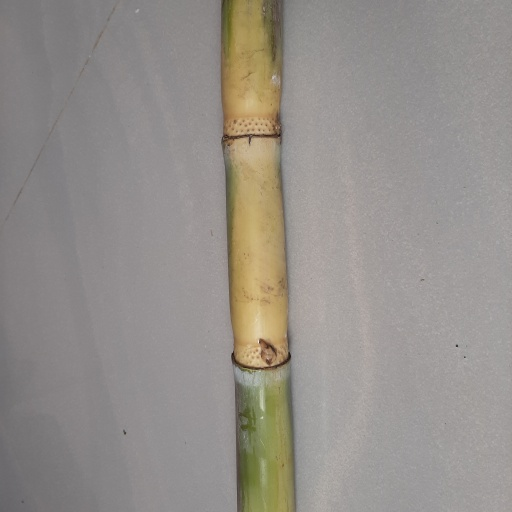Bud: (256, 339, 280, 366)
